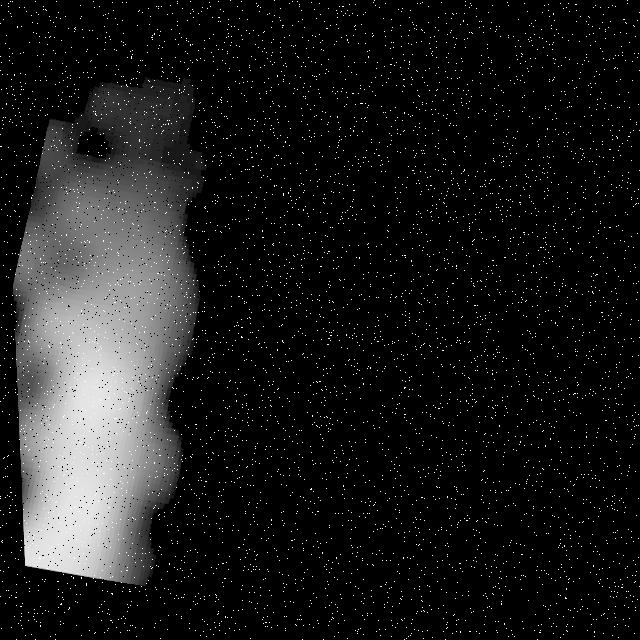person: (6, 118, 271, 603)
